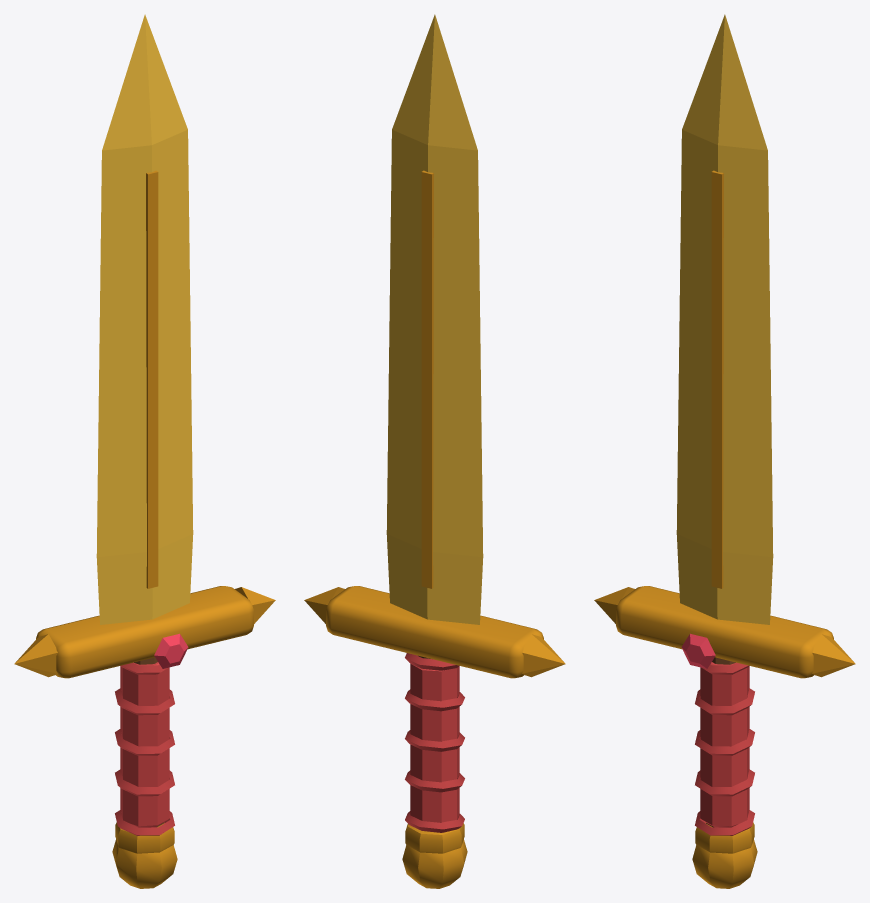
File: GoldSword.fbx
The picture shows the model from 3 angles, left to right: view 1: azimuth 30°, elevation 25°; view 2: azimuth 150°, elevation 25°; view 3: azimuth 330°, elevation 25°; orthographic projection.
Visible parts, largest first — view 1: GoldSword; view 2: GoldSword; view 3: GoldSword.
Part boxes in pixels (x1,y1,x2,y2): GoldSword: [14, 14, 275, 888]; GoldSword: [304, 14, 565, 888]; GoldSword: [594, 14, 855, 888].
Bounding box in the file's own units: 1.52 × 4.84 × 0.47.
Materials: 1 (1 with a texture image).
